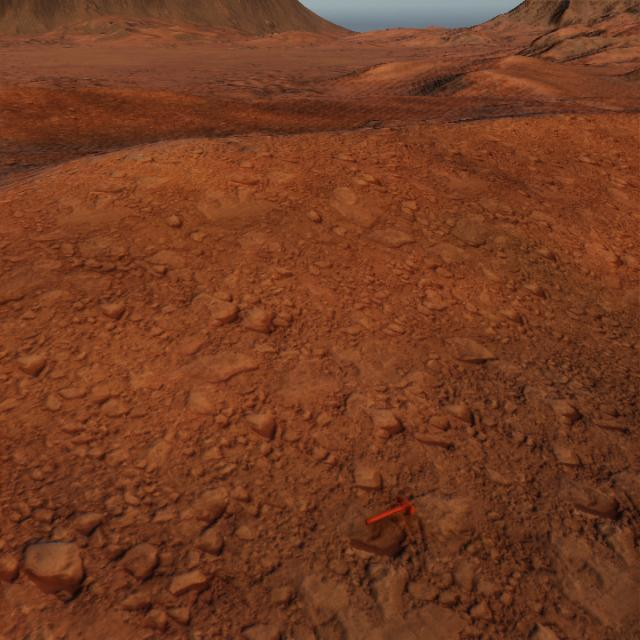newhammer: (364, 496, 414, 525)
